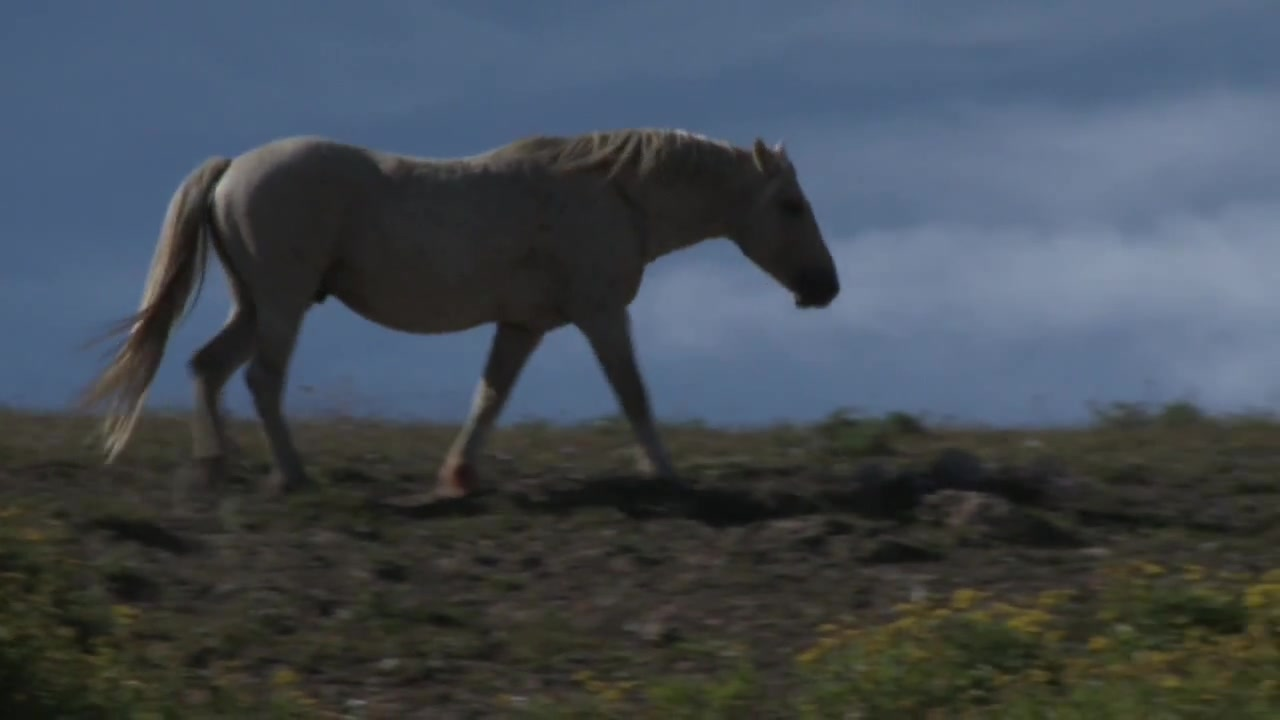horse: (79, 126, 842, 502)
